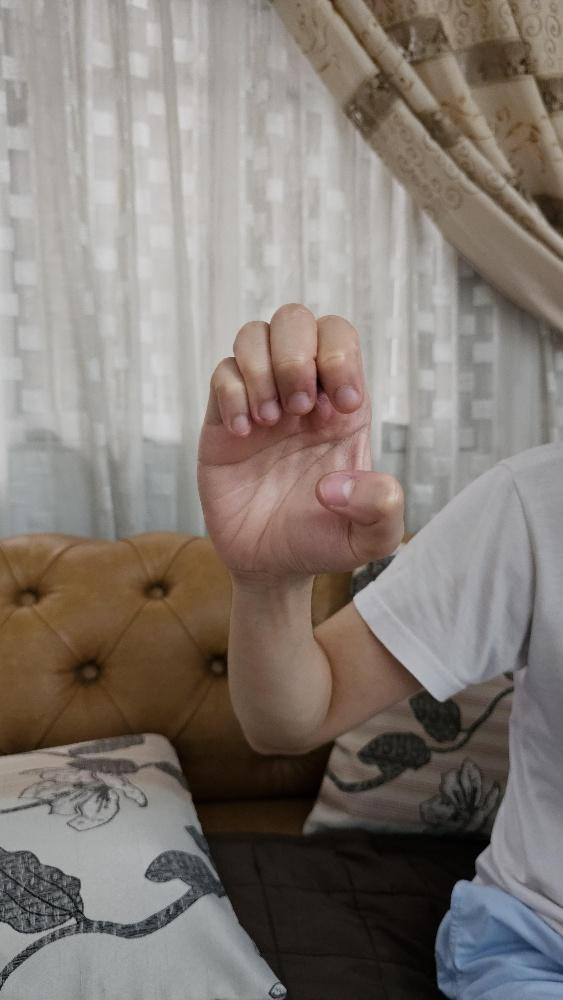e: (194, 299, 406, 581)
